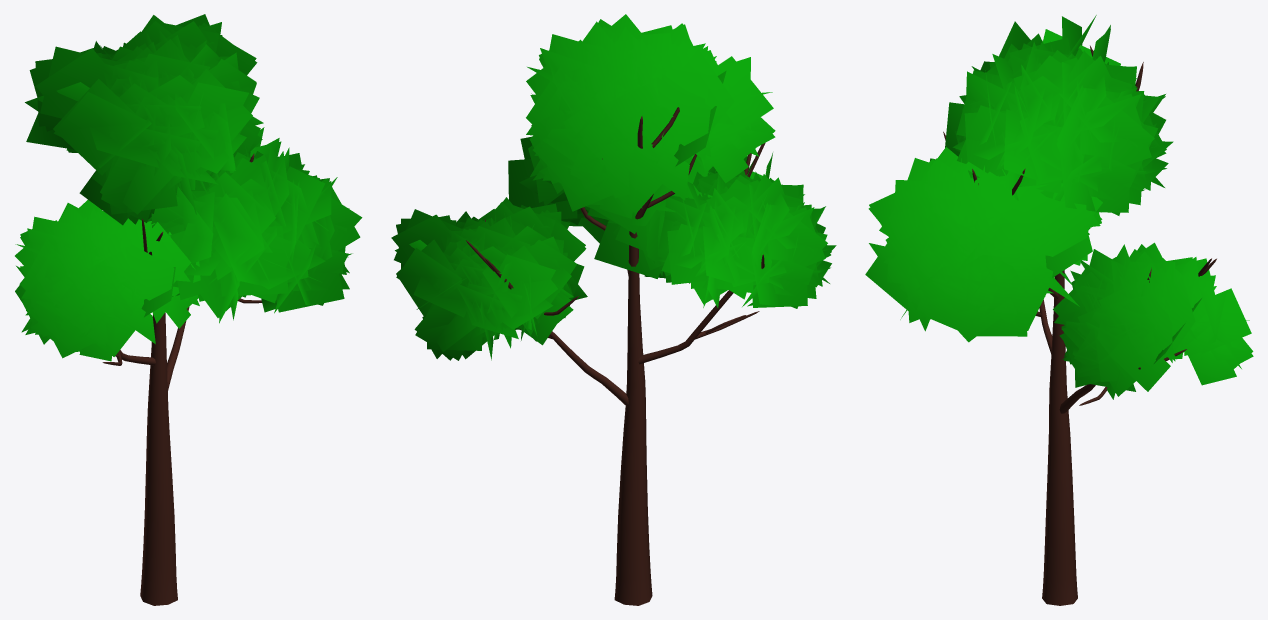
The model's file is BirchTree_1.obj.
3 views of the same model, side by side, from view 1: azimuth 30°, elevation 25°; view 2: azimuth 150°, elevation 25°; view 3: azimuth 270°, elevation 25° (orthographic). The views are drawn at different scales.
Visible parts, largest first — view 1: BirchTree_5_Cube.009; view 2: BirchTree_5_Cube.009; view 3: BirchTree_5_Cube.009.
Boxes of the visible parts, x1=… form: BirchTree_5_Cube.009: x1=15, y1=14, x2=362, y2=605; BirchTree_5_Cube.009: x1=391, y1=14, x2=836, y2=605; BirchTree_5_Cube.009: x1=865, y1=15, x2=1253, y2=605.
Bounding box in the file's own units: 3.58 × 5.52 × 3.51.
